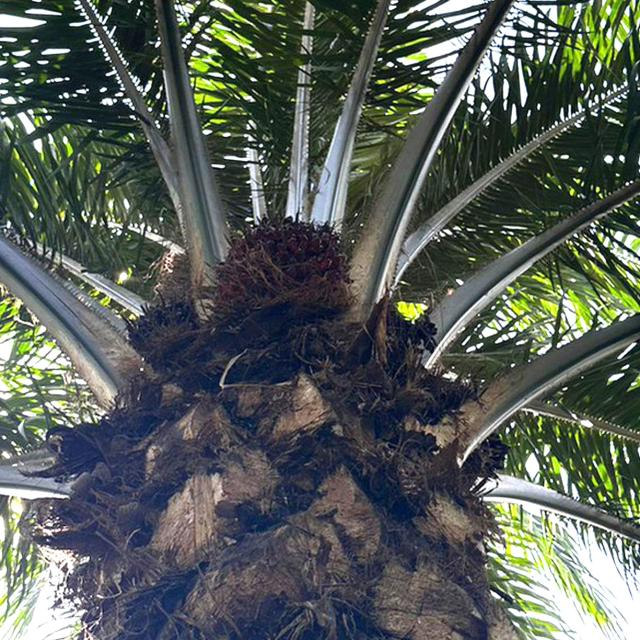ripe: (200, 193, 362, 338)
